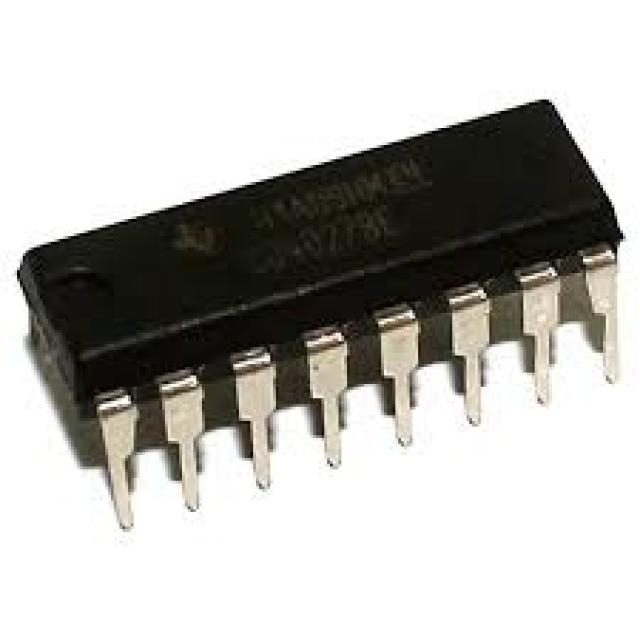IC: (20, 101, 621, 535)
